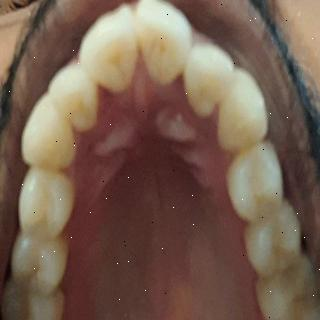maligned: (138, 0, 192, 88), (85, 13, 137, 93), (181, 37, 231, 117), (50, 56, 96, 130)
